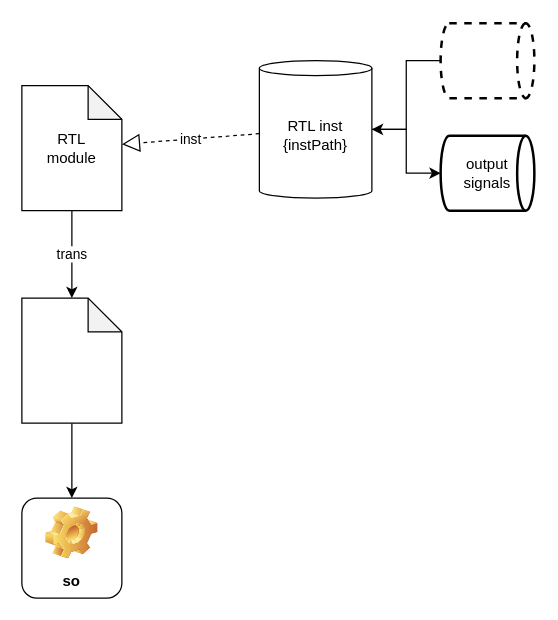
Image size: 558x620. Some labels were removed from this diagram. Each missing label, with the centre of its shape:
C++ class: point 71,360
input signals: point 487,60
